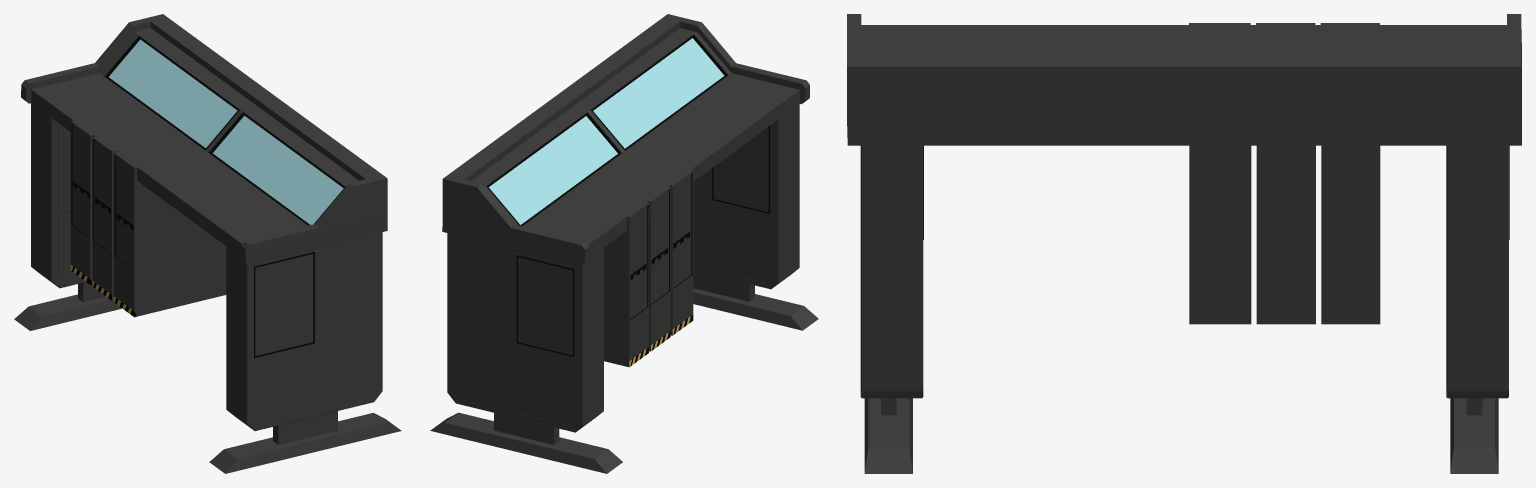
The model's file is station2.fbx.
The picture shows the model from 3 angles, left to right: view 1: azimuth 30°, elevation 25°; view 2: azimuth 150°, elevation 25°; view 3: azimuth 270°, elevation 25°; orthographic projection. The views are drawn at different scales.
Parts seen in each view (by area): view 1: station2; view 2: station2; view 3: station2.
Boxes of the visible parts, left/top/right/bottom form: station2: left=14, top=14, right=401, bottom=473; station2: left=430, top=14, right=818, bottom=473; station2: left=847, top=14, right=1521, bottom=473.
Size of the model in its own units: 2.14 by 4.72 by 3.03.
